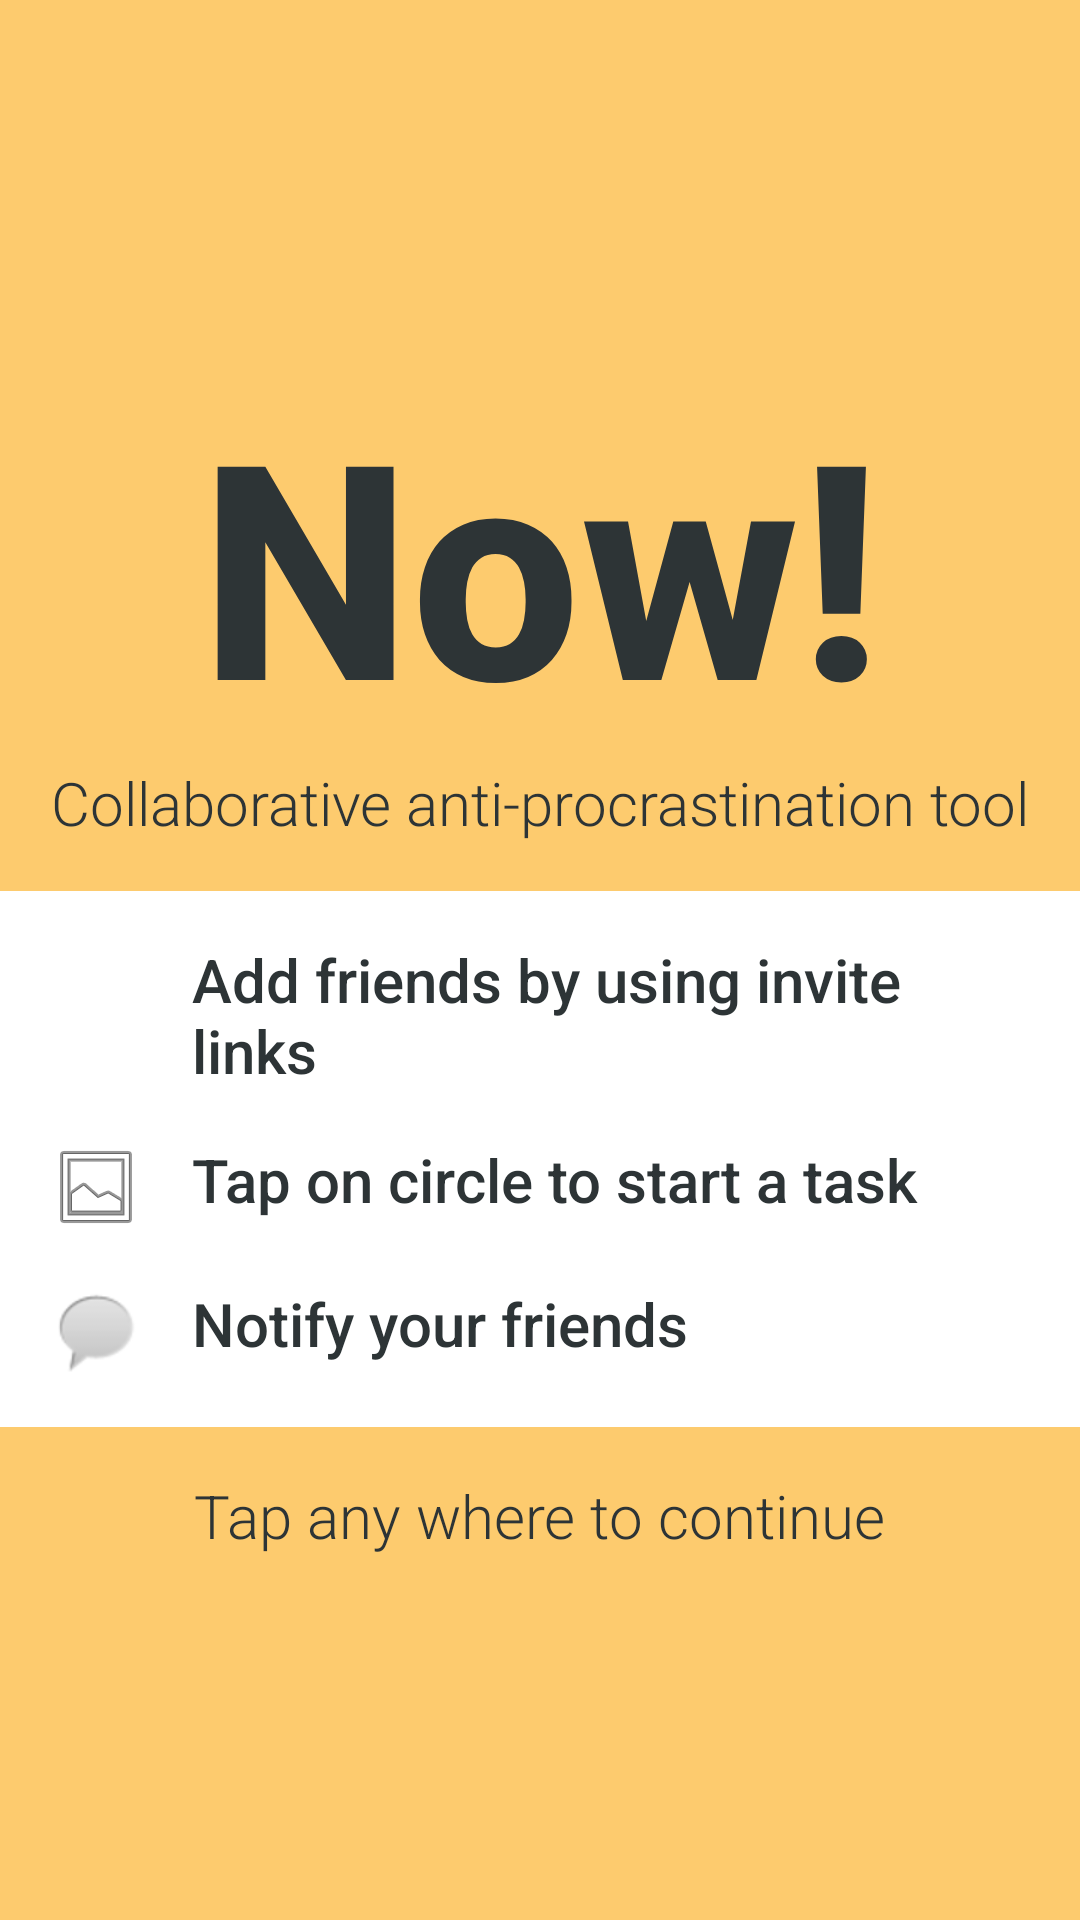

Locate icon controls on the screen. Image size 1080 × 1920, boxes as region(x1, y1, x2, y2).
gallery: region(60, 1151, 132, 1223)
sym action chat: region(59, 1295, 132, 1370)
